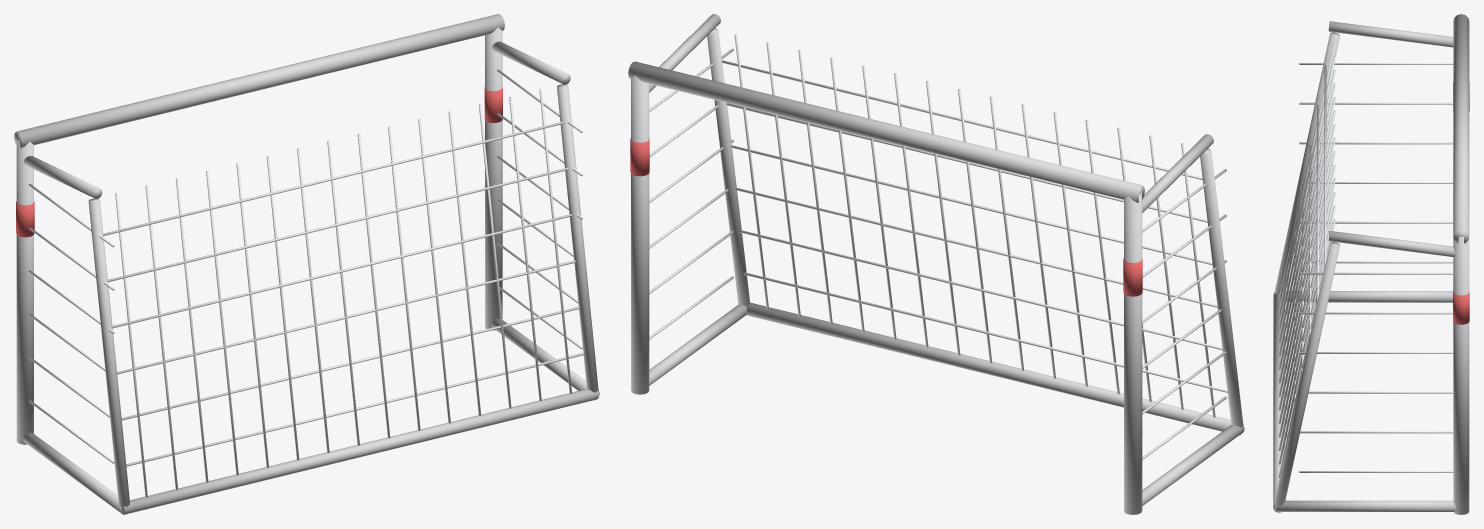
File: Istanbul_FootballGoal.fbx
3 renders of one model, left to right at view 1: azimuth 30°, elevation 25°; view 2: azimuth 150°, elevation 25°; view 3: azimuth 270°, elevation 25°, orthographic. The views are drawn at different scales.
Parts seen in each view (by area): view 1: Goal_Crossbar, Goal_BackBase, Goal_PostL, Goal_PostR, Goal_BackDiag_-1.7, Goal_BackDiag_1.7, Net_H_6, Goal_SideBase_-1.7, Net_H_5, Net_H_4, Net_H_3, Net_H_2 (+19 smaller); view 2: Goal_Crossbar, Goal_BackBase, Goal_PostL, Goal_PostR, Goal_BackDiag_-1.7, Goal_BackDiag_1.7, Goal_SideBase_-1.7, Goal_SideBase_1.7, Net_H_1, Net_H_2, Net_H_3, Net_H_6 (+20 smaller); view 3: Goal_PostR, Goal_Crossbar, Goal_BackDiag_1.7, Goal_SideBase_1.7, Goal_BackDiag_-1.7, Goal_BackBase, Goal_SideBase_-1.7, Goal_TopSide_1.7, Goal_TopSide_-1.7, Net_V_-4, Net_V_-7, Net_V_-2 (+28 smaller).
Part boxes in pixels (x1,y1,x2,y2): Goal_Crossbar: (14, 14, 504, 148); Goal_BackBase: (121, 389, 598, 514); Goal_PostL: (16, 139, 33, 444); Goal_PostR: (485, 27, 502, 330); Goal_BackDiag_-1.7: (88, 198, 129, 512); Goal_BackDiag_1.7: (557, 84, 599, 398); Net_H_6: (102, 121, 565, 236); Goal_SideBase_-1.7: (22, 432, 126, 514); Net_H_5: (107, 168, 568, 282); Net_H_4: (112, 214, 572, 328); Net_H_3: (117, 260, 575, 374); Net_H_2: (121, 306, 579, 420); Goal_Crossbar: (628, 61, 1144, 202); Goal_BackBase: (746, 302, 1243, 435); Goal_PostL: (1124, 193, 1142, 514); Goal_PostR: (631, 75, 649, 394); Goal_BackDiag_-1.7: (1200, 148, 1243, 433); Goal_BackDiag_1.7: (707, 28, 750, 306); Goal_SideBase_-1.7: (1142, 425, 1244, 505); Goal_SideBase_1.7: (649, 304, 746, 385); Net_H_1: (743, 272, 1227, 392); Net_H_2: (739, 230, 1222, 350); Net_H_3: (735, 187, 1217, 307); Net_H_6: (722, 60, 1202, 179); Goal_PostR: (1453, 237, 1469, 514); Goal_Crossbar: (1453, 14, 1469, 243); Goal_BackDiag_1.7: (1274, 242, 1340, 511); Goal_SideBase_1.7: (1276, 500, 1455, 511); Goal_BackDiag_-1.7: (1274, 32, 1340, 294); Goal_BackBase: (1273, 293, 1284, 512); Goal_SideBase_-1.7: (1284, 291, 1453, 302); Goal_TopSide_1.7: (1328, 231, 1455, 257); Goal_TopSide_-1.7: (1328, 21, 1453, 47); Net_V_-4: (1278, 83, 1335, 342); Net_V_-7: (1278, 42, 1335, 301); Net_V_-2: (1278, 110, 1335, 369).
Bounding box in the file's own units: 3.52 × 2.16 × 1.35.
